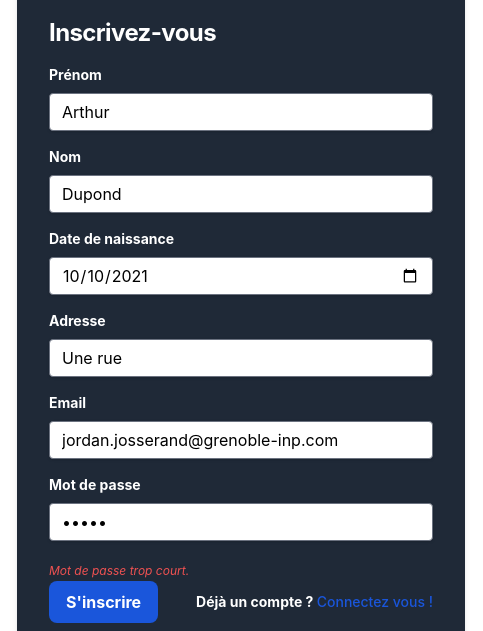
Test: Test E2E › [REGISTER] : Test invalid login
The image size is (483, 631).
(page scrolled)
Note: Clear les inputs
Clear the password field labelled "Mot de passe" at (241, 522), box [49,503,433,541]
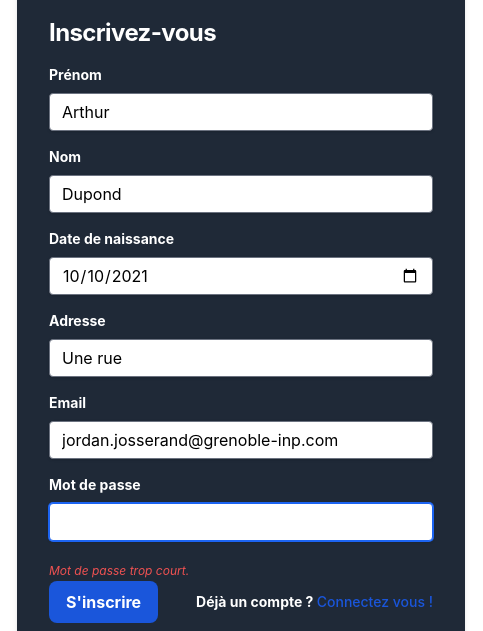
Clear the field with id "email" at (241, 440), box [49,421,433,459]
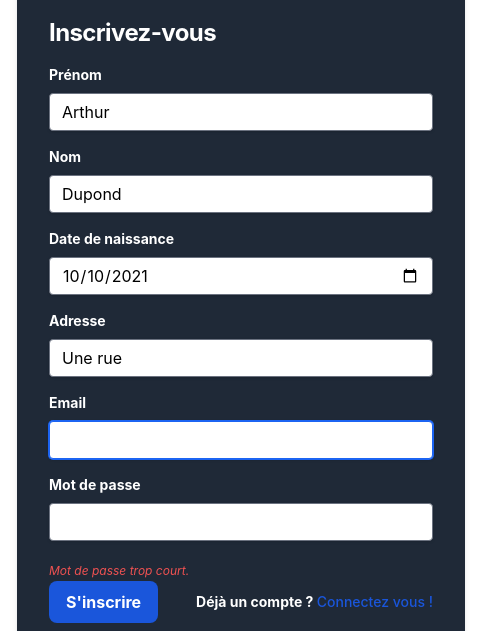
Note: Remplit les inputs
Type "abcaaaaaaaa" into the password field labelled "Mot de passe" at (241, 522), box [49,503,433,541]
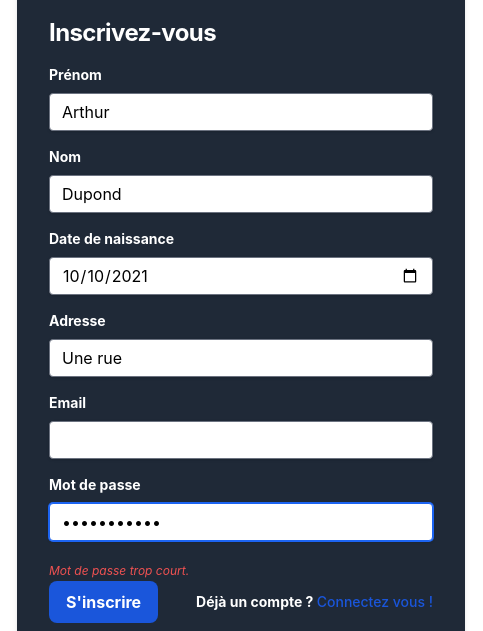
Type "aa" into the field with id "email" at (241, 440), box [49,421,433,459]
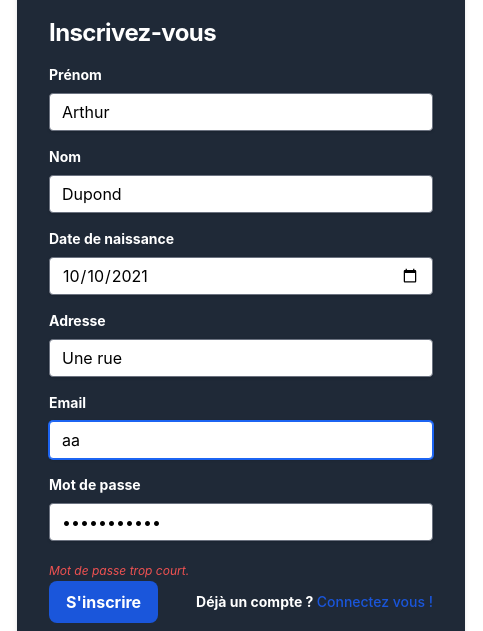
Note: Valide les données
Click the button with test id "validate-register" at (104, 602), box [49,581,158,623]
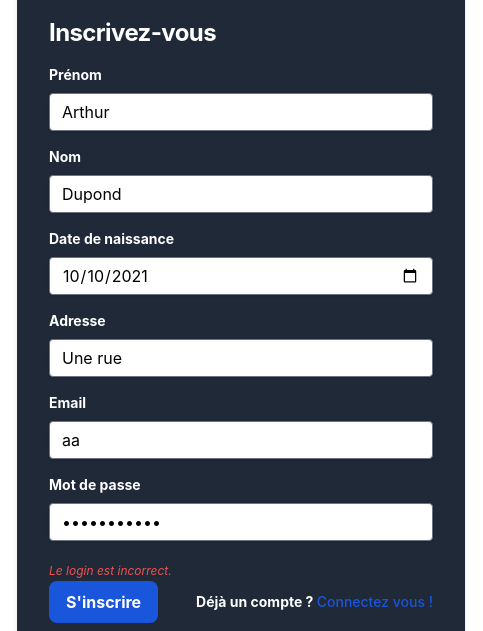
expect the text "Le login est incorrect." is shown: met, box [49,563,172,578]
